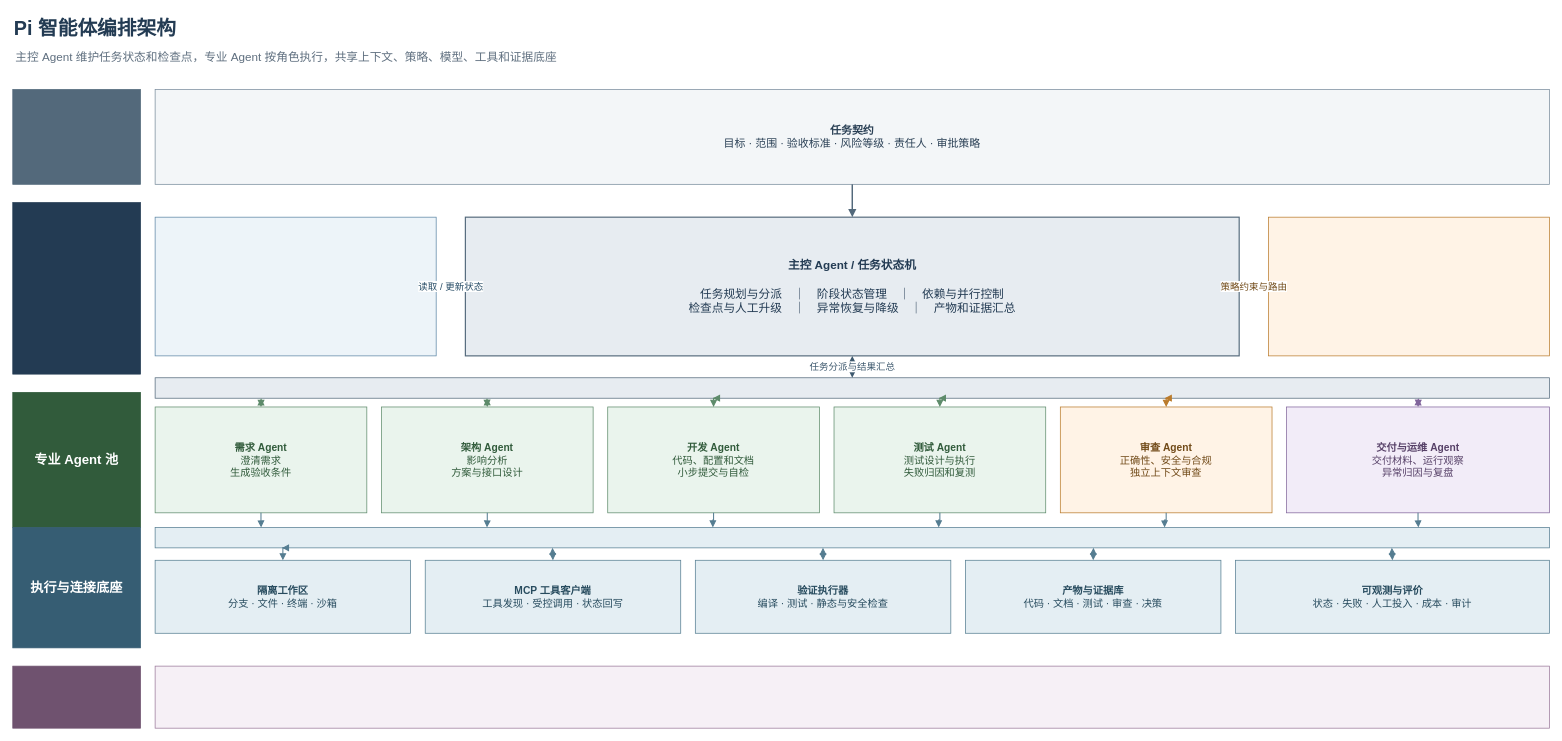
The diagram is 1562 pixels wide and 741 high, and some of its shapes have lost their labels. The centre of each missing label's shape, as x and y in pixels:
主控任务调度与共享状态总线: (851,387)
任务输入: (76,136)
任务输出: (76,696)
共享任务状态与记忆 任务上下文 计划与依赖 产物与证据 决策及失败记录: (295,286)
控制平面: (76,288)
策略、风险与模型路由 风险分级与审批规则 工具和操作白名单 质量阈值与预算 模型选择、替换与降级: (1408,286)
统一工具执行、结果回传与证据总线: (851,537)
获批交付包 ｜ 测试与审查证据 ｜ 运行与审计记录 ｜ 改进后的知识、Skill、Rule、流程模板和评价任务: (851,696)
